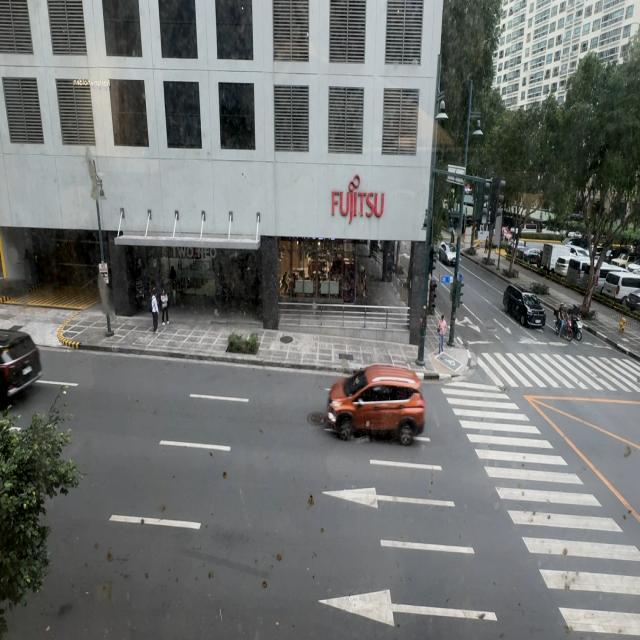waiting: (438, 313, 448, 354)
